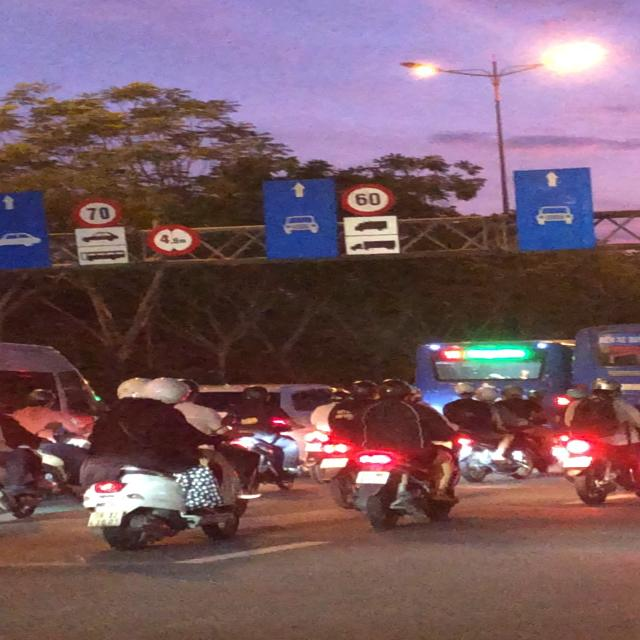Bien bao han che chieu cao: (143, 222, 203, 256)
Bien bao toc do toi da cho phep: (332, 178, 405, 219), (65, 195, 133, 229)
